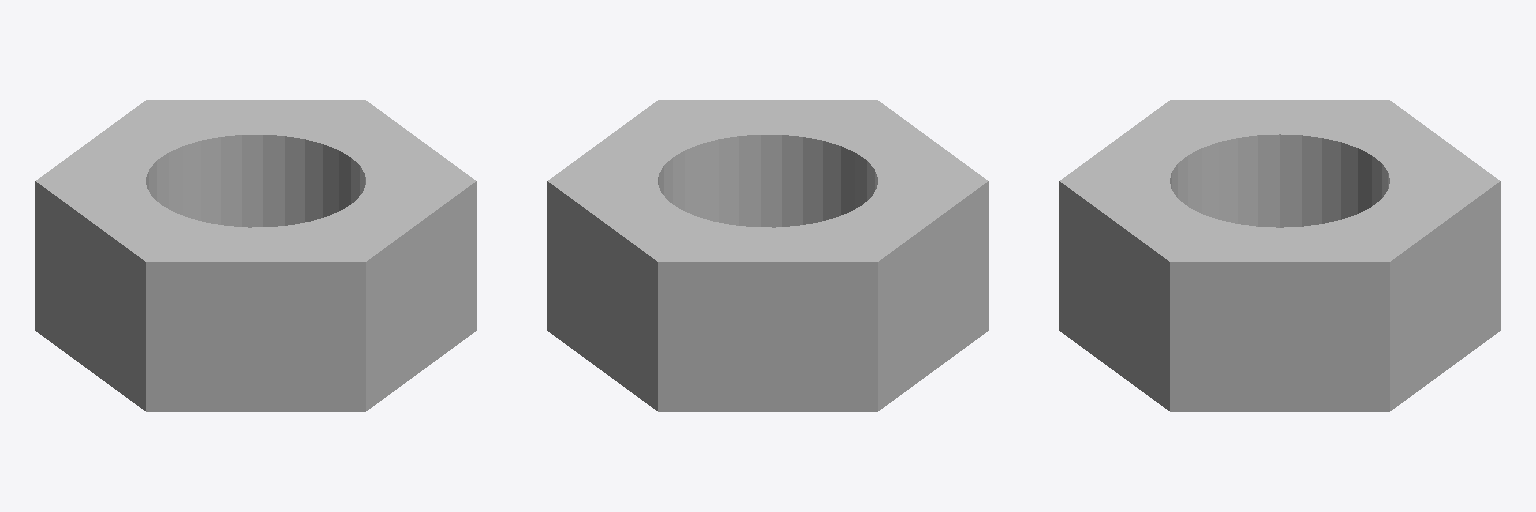
The model's file is nut.obj.
The picture shows the model from 3 angles: view 1: azimuth 30°, elevation 25°; view 2: azimuth 150°, elevation 25°; view 3: azimuth 270°, elevation 25°; orthographic projection.
Visible parts, largest first — view 1: Cylinder.001_Cylinder.003; view 2: Cylinder.001_Cylinder.003; view 3: Cylinder.001_Cylinder.003.
Part boxes in pixels (left/top/right/bottom): Cylinder.001_Cylinder.003: left=35, top=100, right=476, bottom=411; Cylinder.001_Cylinder.003: left=547, top=100, right=988, bottom=411; Cylinder.001_Cylinder.003: left=1059, top=100, right=1500, bottom=411.
Size of the model in its own units: 0.0693 by 0.03 by 0.08.